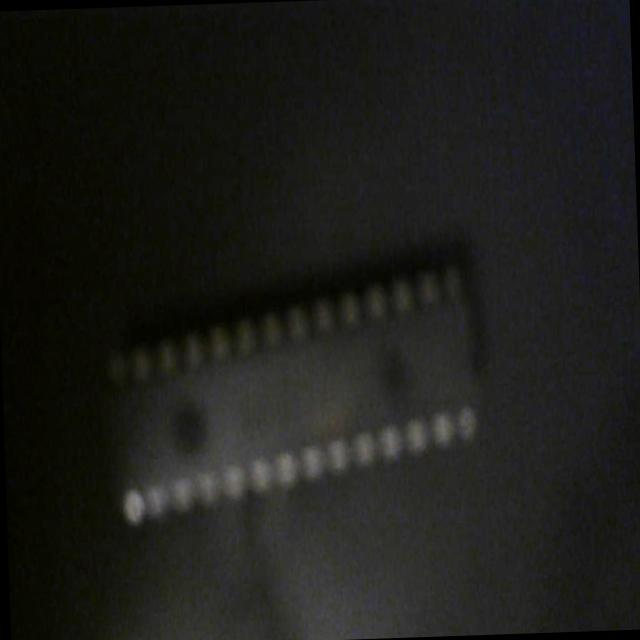atmega: (93, 233, 496, 534)
